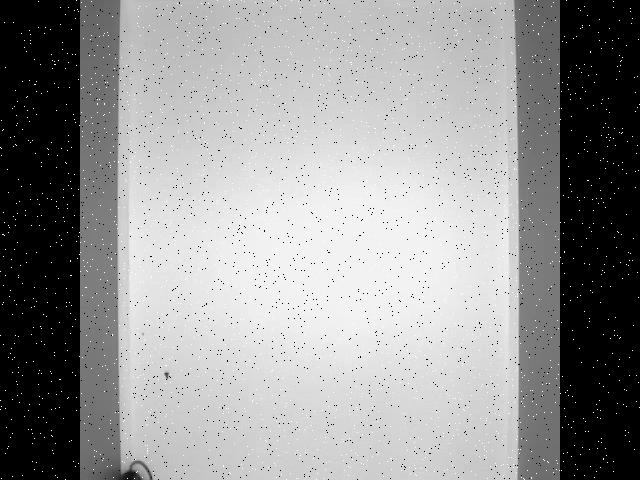Tikus: (112, 456, 156, 480)
